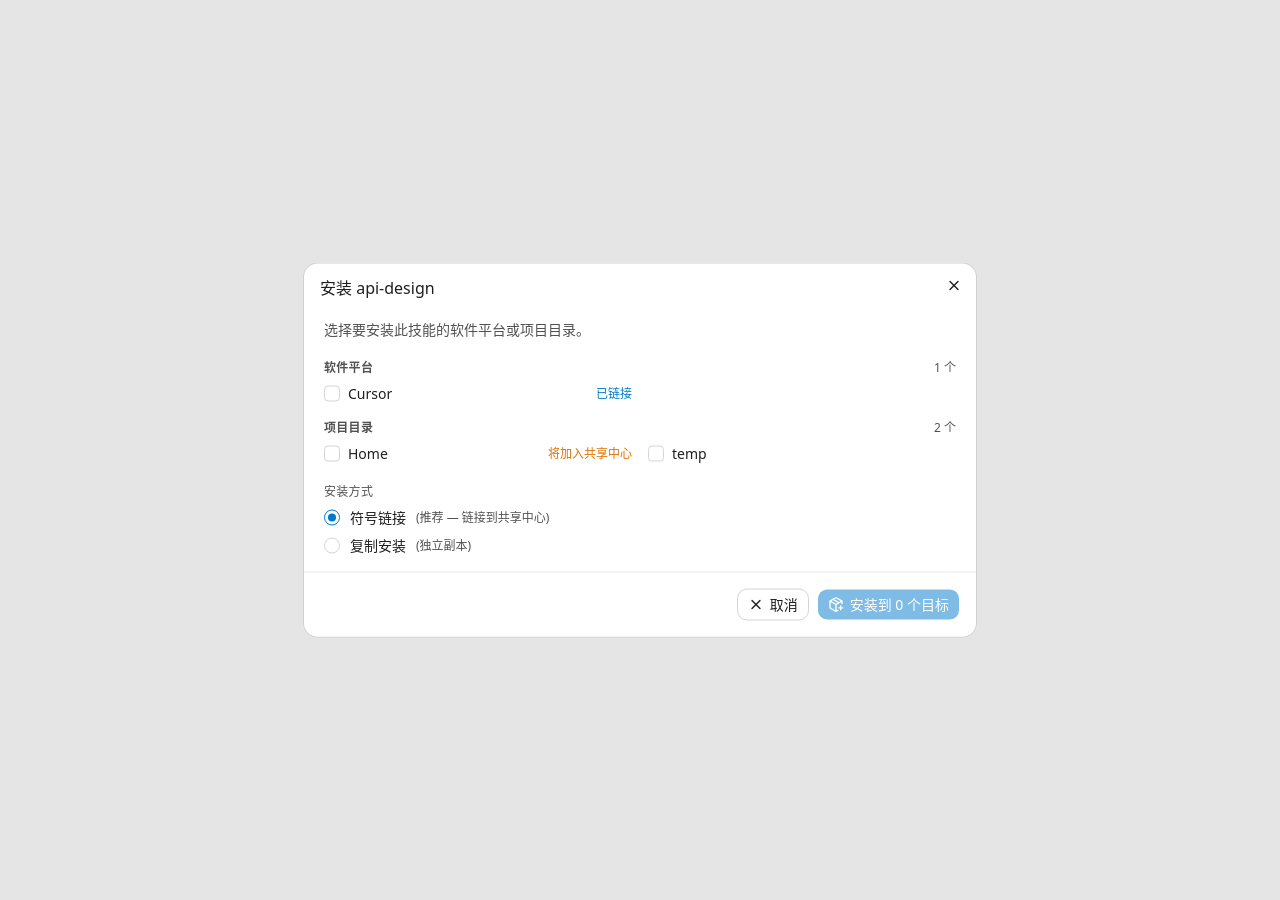
Test: InstallDialog › treats a project directory that shares the central root as a shared target
This screenshot has width=1280, height=900.
Expected: the text "将加入共享中心" is shown, [548,446,632,462]
What coordinates should you click on to do the following:
click the checkbox named "Home"
I would click on:
 (332, 454)
Its box is [324,446,340,462].
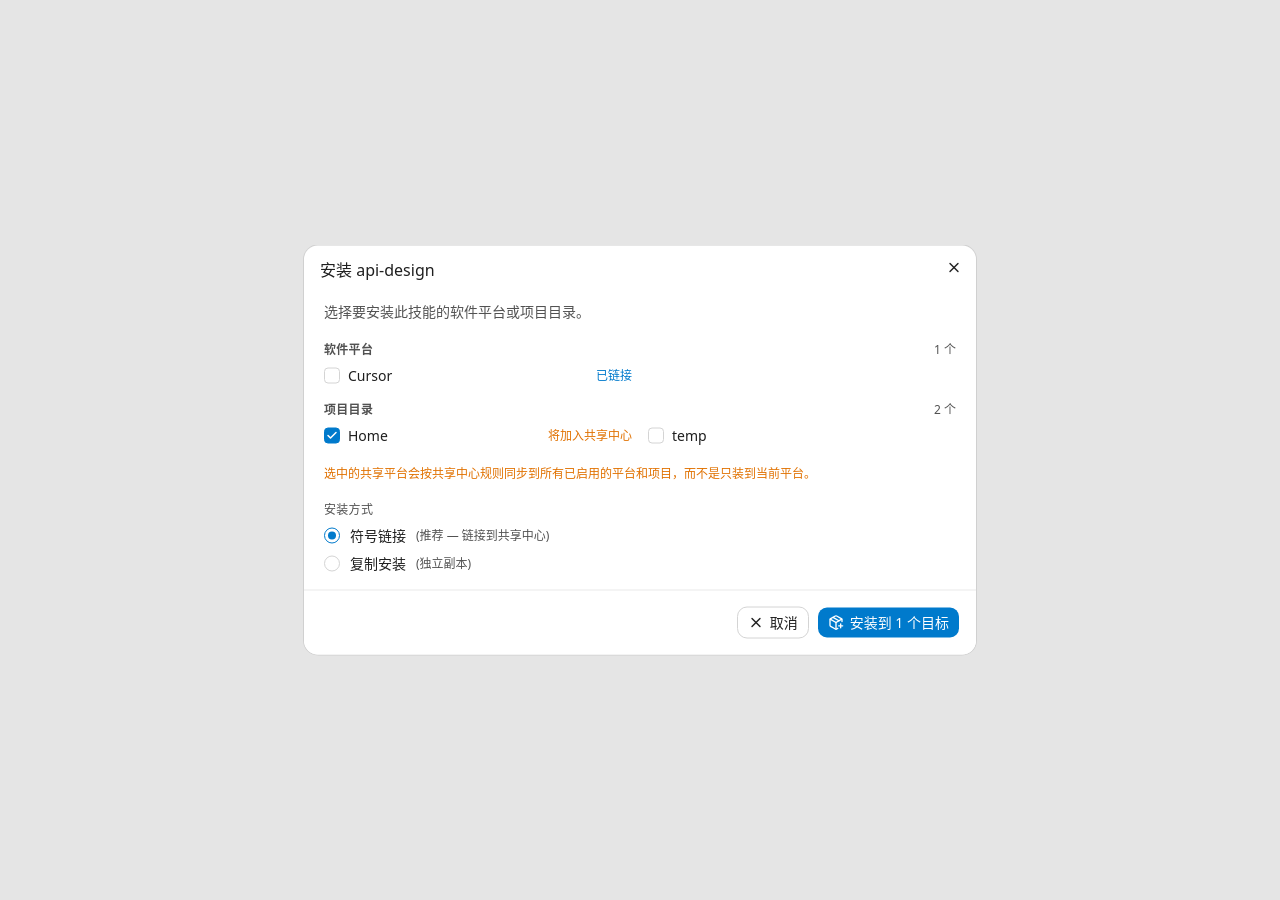
Expected: the text "选中的共享平台会按共享中心规则同步到所有已启用的平台和项目，而不是只装到当前平台。" is shown, [324,464,816,482]
